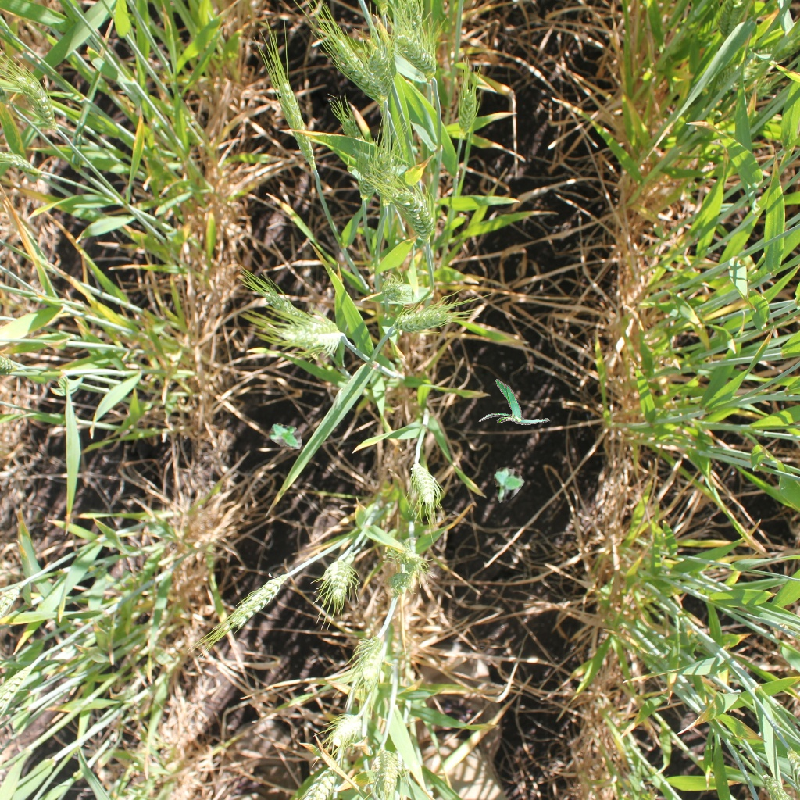spikelet: (318, 24, 388, 103), (339, 106, 397, 190), (275, 76, 320, 167), (228, 571, 288, 628), (10, 67, 59, 131), (278, 313, 346, 354), (391, 184, 437, 241), (393, 26, 439, 79), (352, 632, 392, 687), (391, 301, 454, 333), (367, 745, 404, 799), (1, 664, 37, 717), (293, 764, 345, 799), (376, 271, 426, 306), (322, 553, 357, 601), (327, 711, 370, 749), (407, 459, 439, 506), (388, 538, 426, 575), (457, 79, 479, 136), (1, 580, 23, 621), (764, 777, 792, 800)
weed: (484, 377, 551, 445), (490, 465, 527, 507), (269, 423, 302, 449)
